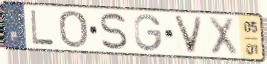G: (132, 13, 163, 53)
L: (29, 9, 56, 47)
O: (57, 9, 89, 50)
S: (99, 11, 129, 51)
V: (172, 14, 206, 56)
X: (207, 15, 240, 58)
